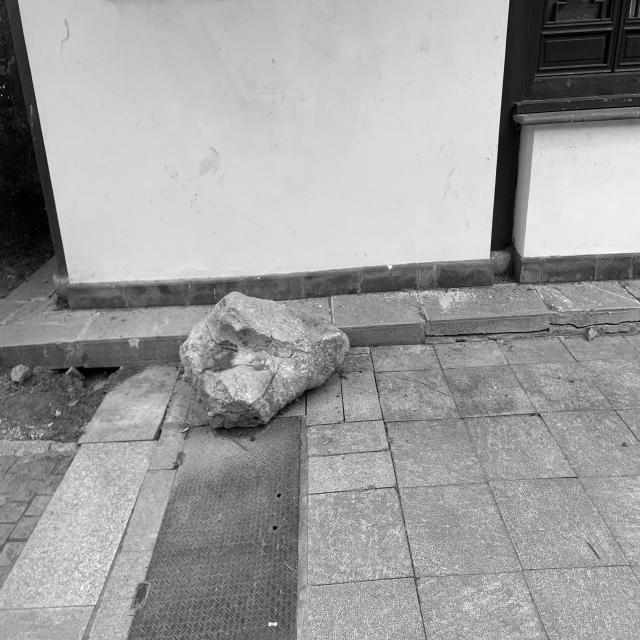Stone: (179, 291, 350, 428)
